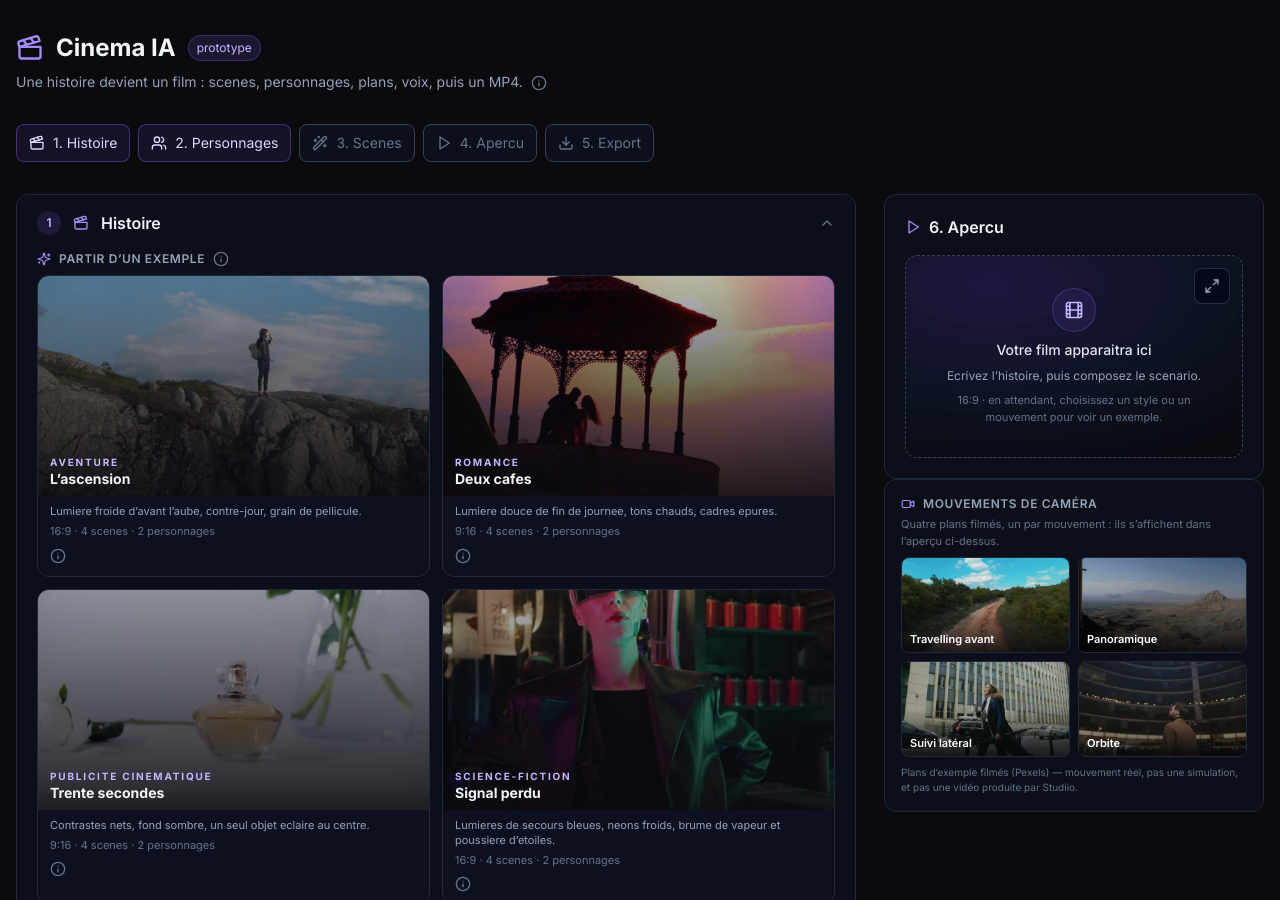
un seul aperçu : les mouvements s’affichent dedans, sans scénario › « Revenir à mon film » rend l’aperçu du projet
Check: the text "Partir d’un exemple" is shown, box top-left (37, 251), bottom-right (229, 267)
Click the button "Panoramique" at (1162, 605), box top-left (1078, 557), bottom-right (1247, 653)
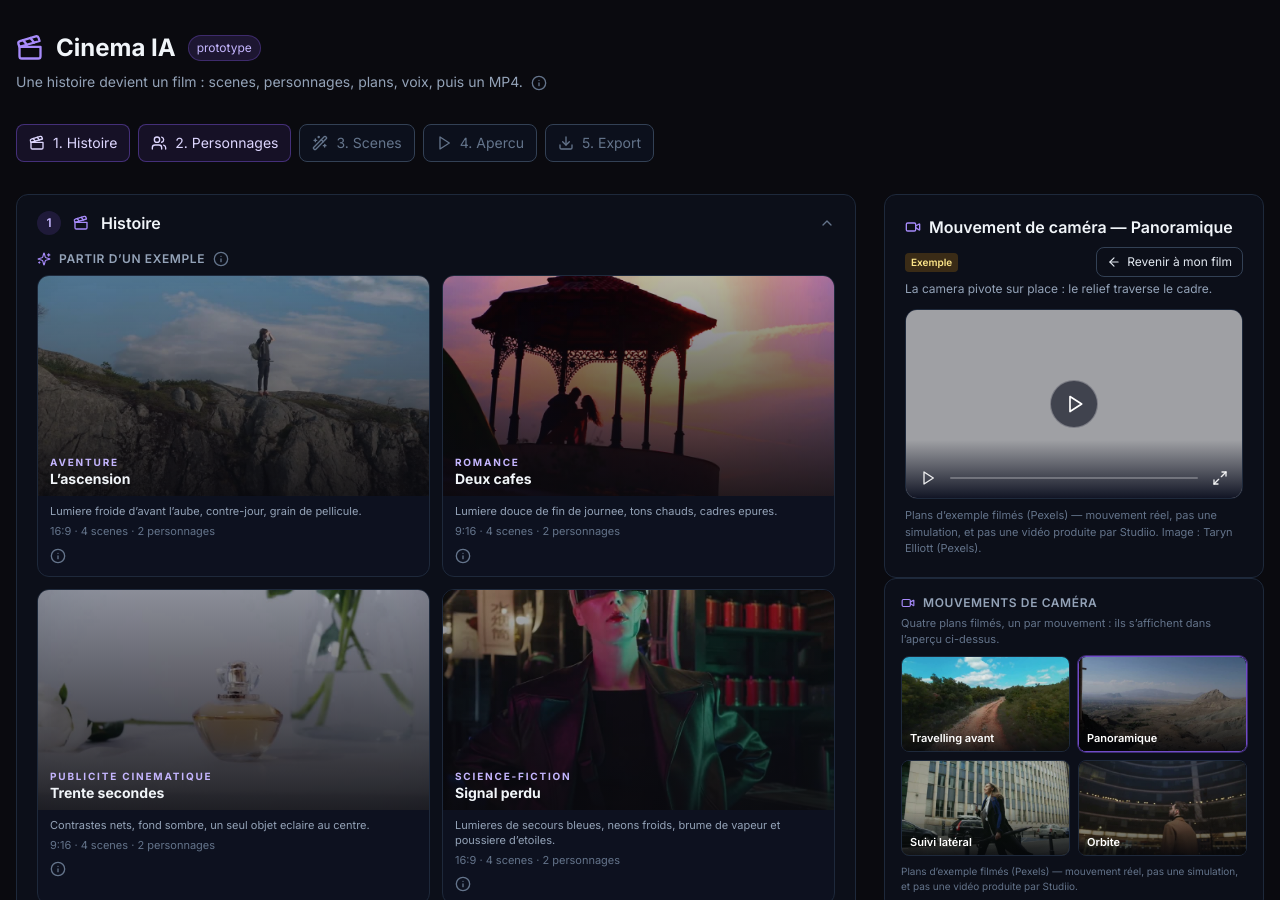
Check: the element that starts with "Mouvement de caméra — Panoramique" is shown, box top-left (884, 194), bottom-right (1264, 578)
Click the button "Revenir à mon film" at (1170, 262), box top-left (1096, 247), bottom-right (1243, 277)
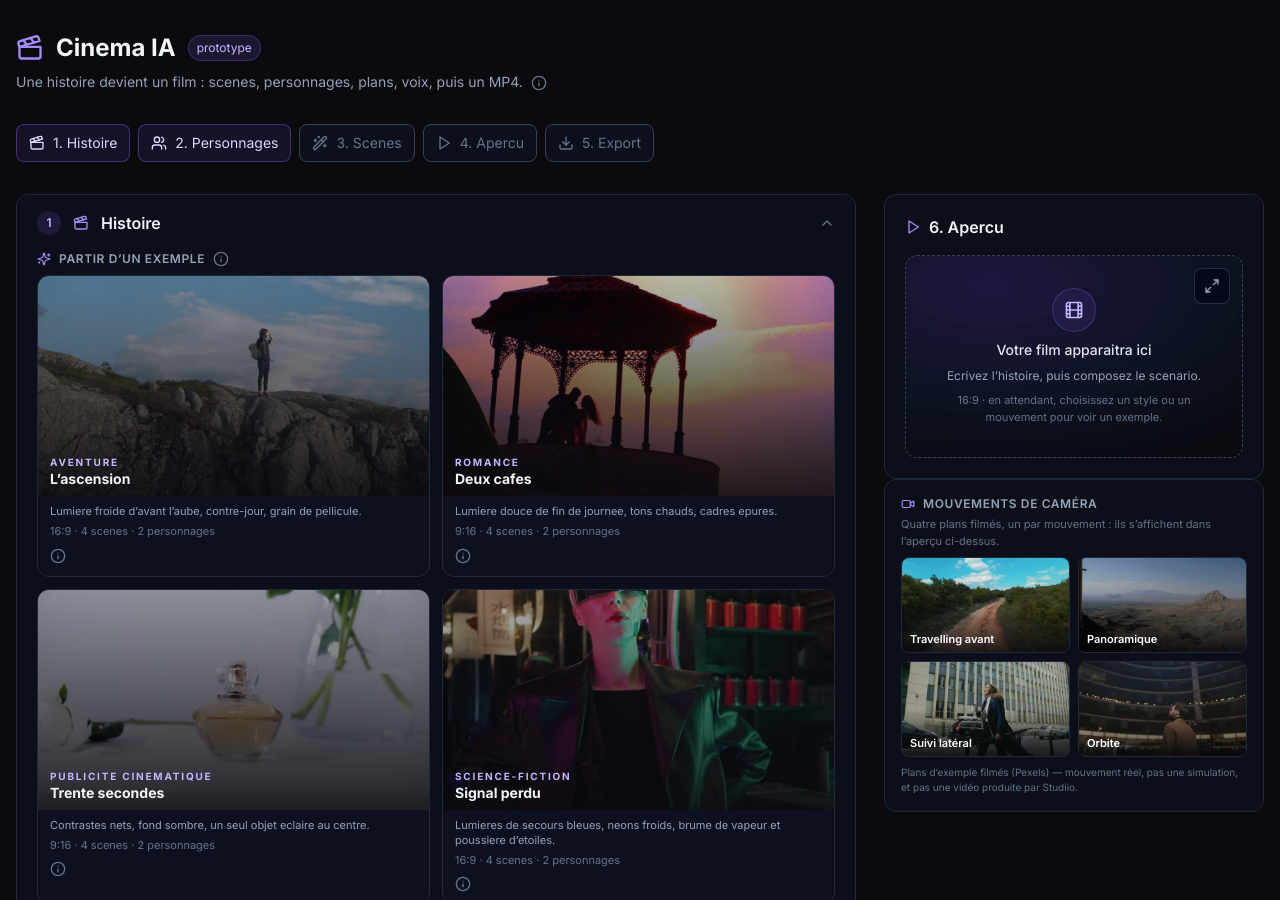
Check: the text "Votre film apparaitra ici" is shown, box top-left (996, 340), bottom-right (1152, 360)
